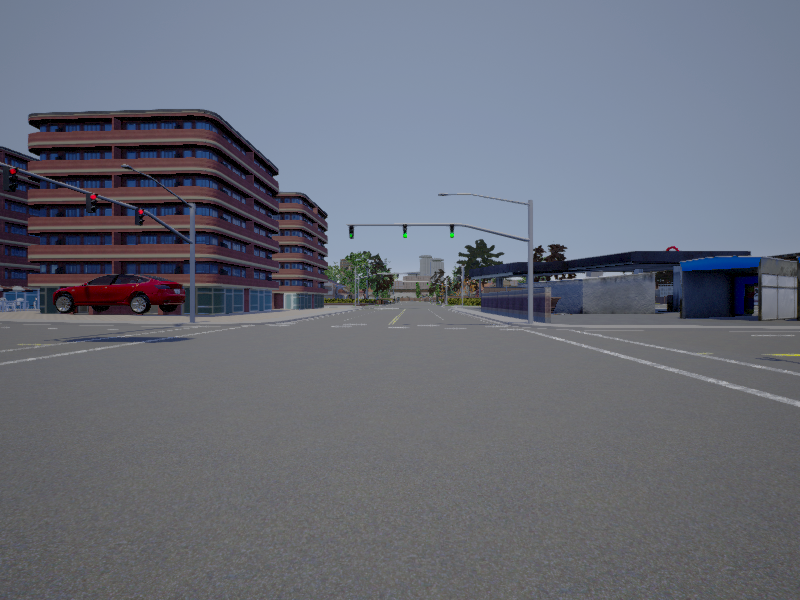Attacker: (56, 272, 185, 315)
